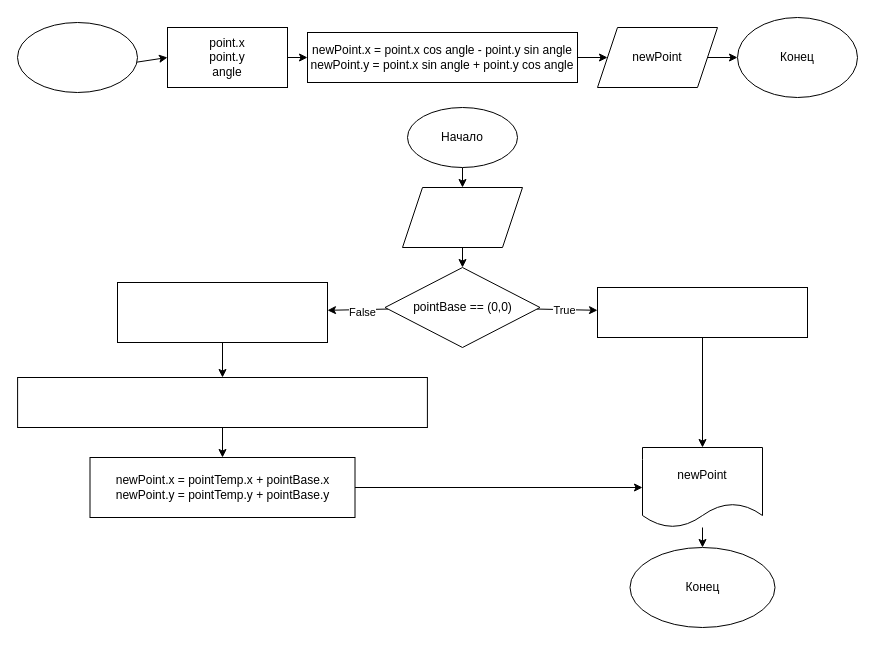
Image size: 875x645. Some labels were removed from this diagram. The shapes that lost their labels are listed below. From the top down, each one's centre as x and y in pixels, then its label:
At pixel 77 57: "Начало Новая точка".
At pixel 462 217: "point(x,y) pointBase(x,y) angle".
At pixel 222 312: "pointTemp.x = point.x - pointBase.x pointTemp.y = point.y - pointBase.y".
At pixel 702 312: "Новая точка(point.x, point.y, angle)".
At pixel 222 402: "pointTemp = Новая точка(pointTemp.x, pointTemp.y, angle)".
